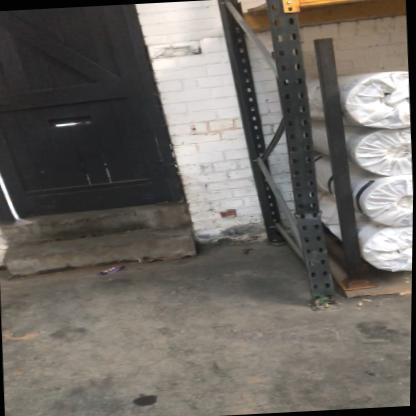vertical_damage: (288, 179, 331, 235)
